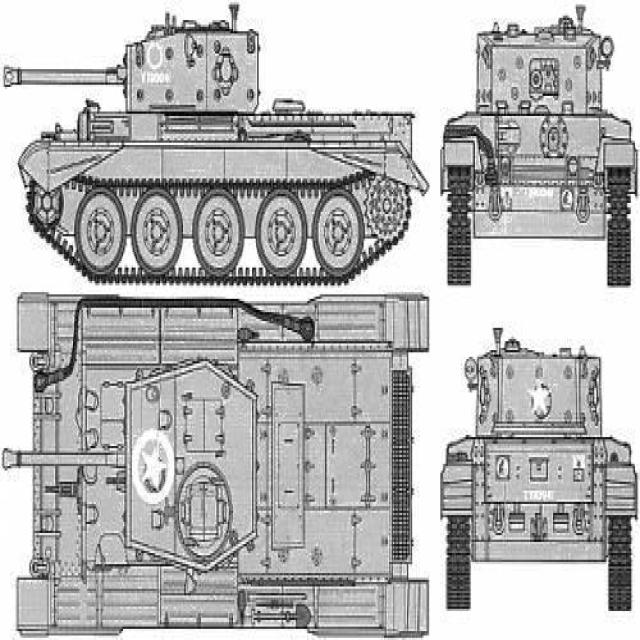Tanks: (8, 290, 428, 627), (3, 14, 427, 280), (438, 17, 637, 304), (437, 332, 637, 614)
